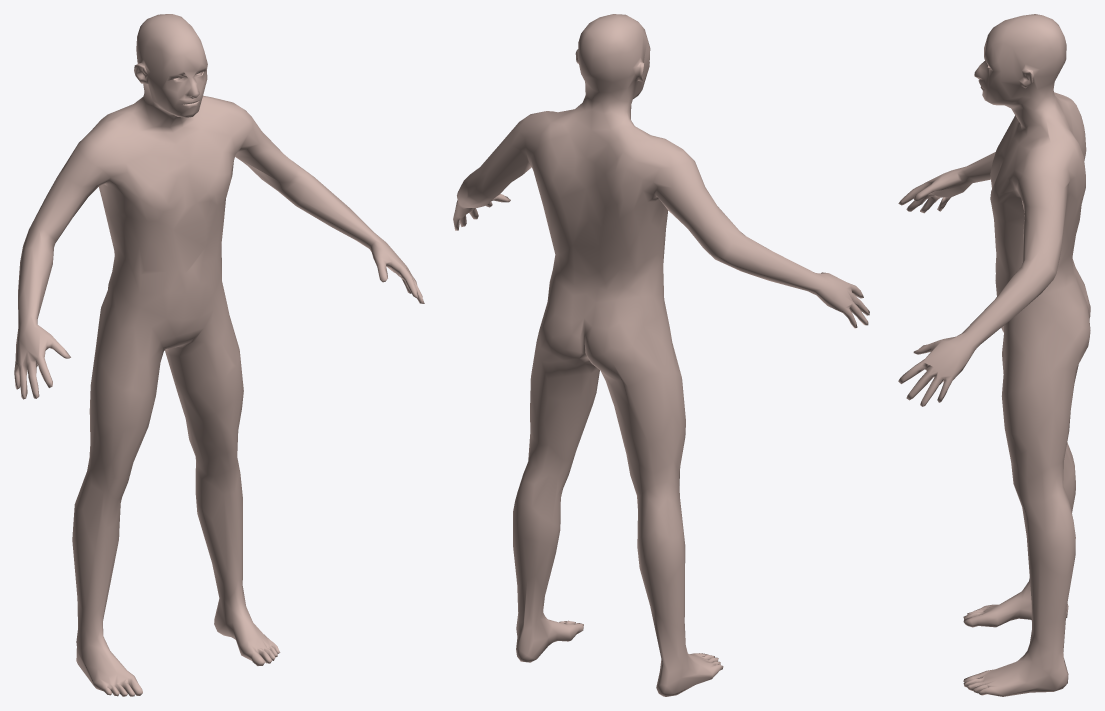
The model's file is seba.fbx.
3 views of the same model, side by side, from view 1: azimuth 30°, elevation 25°; view 2: azimuth 150°, elevation 25°; view 3: azimuth 270°, elevation 25° (orthographic).
Parts seen in each view (by area): view 1: typoMesh; view 2: typoMesh; view 3: typoMesh.
Part boxes in pixels (x1,y1,x2,y2): typoMesh: (14, 14, 424, 696); typoMesh: (453, 14, 869, 696); typoMesh: (898, 14, 1090, 696).
Bounding box in the file's own units: 114 × 174 × 47.49.
